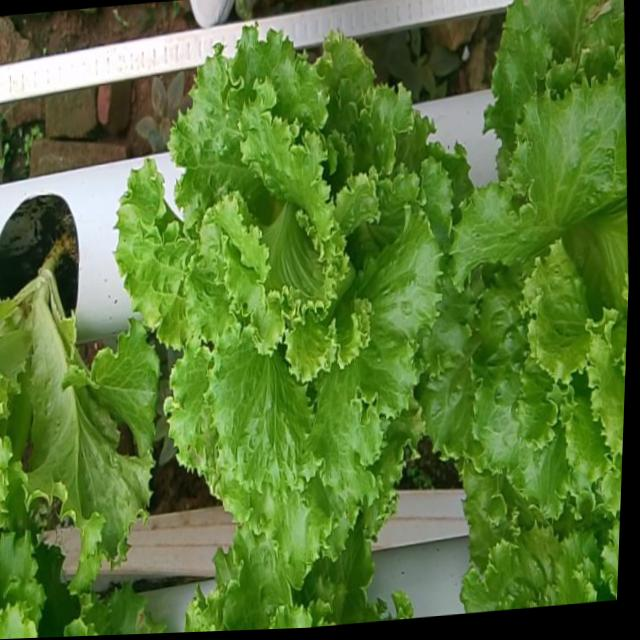Mature: (126, 13, 461, 547), (430, 57, 628, 505)
